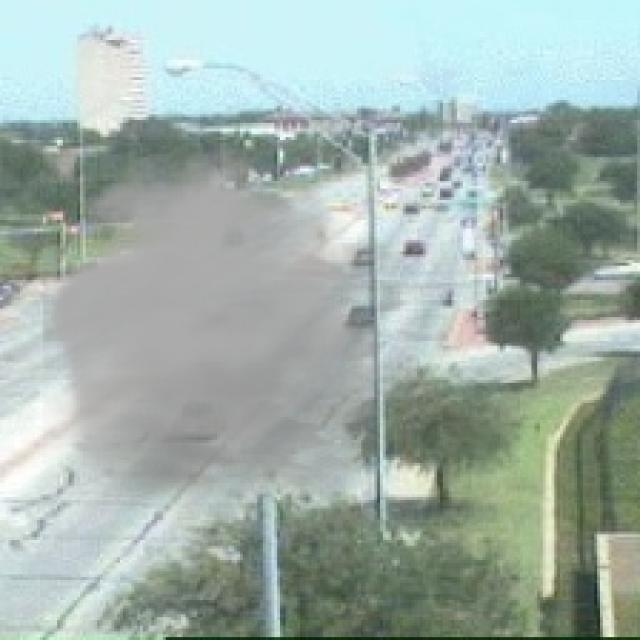smoke: (43, 146, 457, 520)
